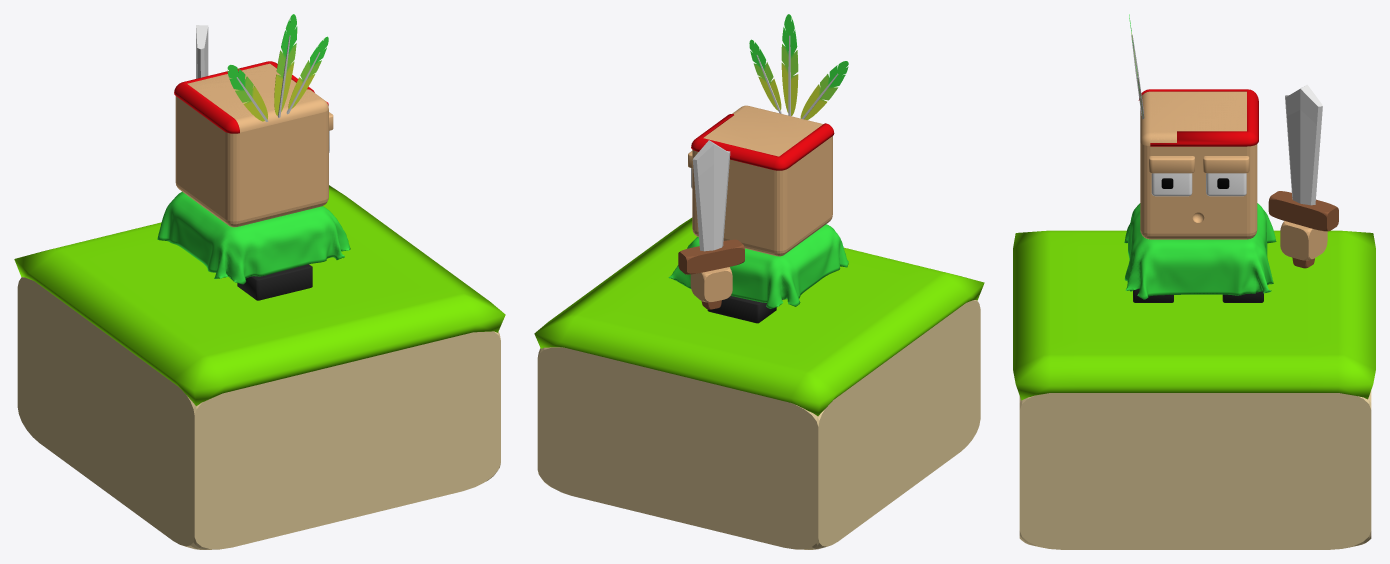
File: cutie.glb
The picture shows the model from 3 angles, left to right: view 1: azimuth 30°, elevation 25°; view 2: azimuth 150°, elevation 25°; view 3: azimuth 270°, elevation 25°; orthographic projection. The views are drawn at different scales.
Parts seen in each view (by area): view 1: Cube.017, Grass, Cube, Plane.002, Hair, Cube.002, band, Circle.002, Circle, Circle.001, Cube.019; view 2: Cube.017, Grass, Cube, Plane.002, Hair, Cube.019, band, Cube.018, Circle.002, Cube.015, Cube.004, Circle (+1 smaller); view 3: Cube.017, Grass, Cube, Plane.002, Hair, Cube.019, band, Cube.018, Cube.015, Cube.005, Cube.006, Cube.010 (+1 smaller).
Part boxes in pixels (x1,y1,x2,y2): Cube.017: (17, 277, 500, 549); Grass: (14, 185, 505, 406); Cube: (175, 64, 328, 227); Plane.002: (157, 192, 350, 284); Hair: (187, 63, 328, 132); Cube.002: (237, 264, 312, 300); band: (174, 61, 328, 133); Circle.002: (274, 14, 297, 115); Circle: (227, 64, 267, 121); Circle.001: (288, 36, 328, 108); Cube.019: (196, 25, 208, 78); Cube.017: (537, 300, 980, 549); Grass: (534, 217, 984, 416); Cube: (692, 107, 832, 256); Plane.002: (668, 224, 848, 308); Hair: (703, 105, 823, 156); Cube.019: (692, 140, 730, 251); band: (691, 114, 834, 170); Cube.018: (678, 239, 744, 274); Circle.002: (781, 14, 798, 115); Cube.015: (690, 267, 732, 302); Cube.004: (707, 296, 776, 323); Circle: (800, 61, 848, 119); Cube.017: (1019, 390, 1371, 549); Grass: (1013, 230, 1375, 400); Cube: (1140, 91, 1257, 239); Plane.002: (1124, 203, 1276, 299); Hair: (1140, 91, 1246, 145); Cube.019: (1285, 84, 1322, 205); band: (1138, 89, 1258, 146); Cube.018: (1268, 191, 1338, 231); Cube.015: (1280, 221, 1327, 260); Cube.005: (1151, 173, 1192, 196); Cube.006: (1206, 173, 1246, 196); Cube.010: (1203, 156, 1249, 173).
Size of the model in its own units: 0.6192 by 0.8698 by 0.6192.
Materials: 12 (1 with a texture image).
